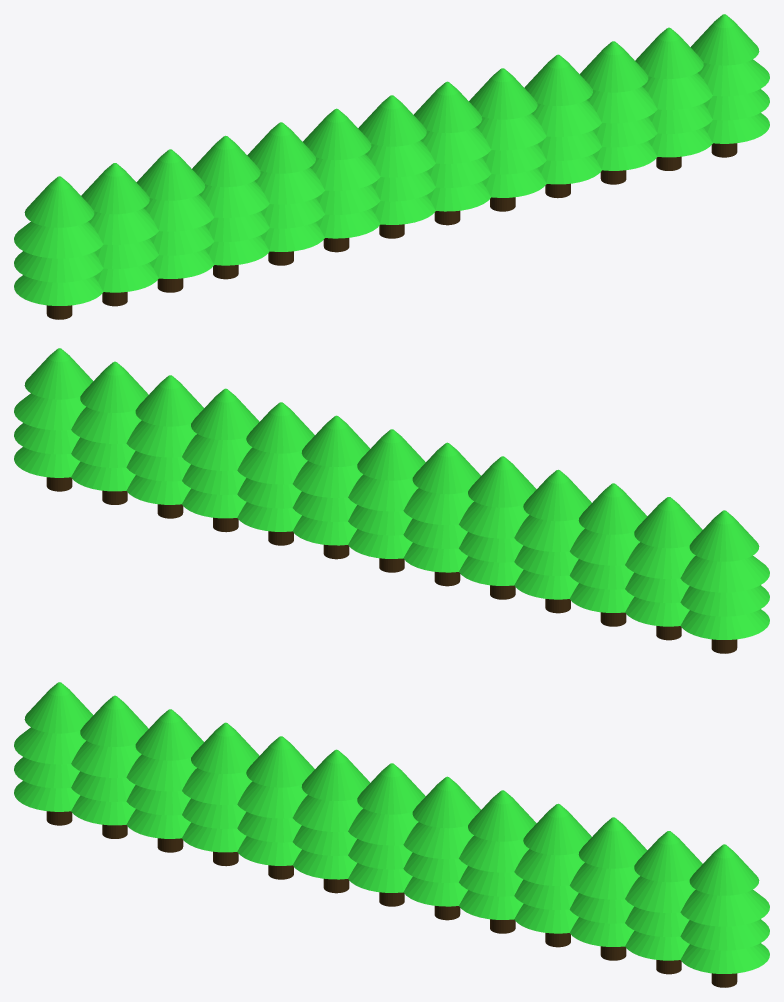
File: treewall.fbx
3 views of the same model, one above another, from view 1: azimuth 30°, elevation 25°; view 2: azimuth 150°, elevation 25°; view 3: azimuth 330°, elevation 25° (orthographic).
Parts seen in each view (by area): view 1: tree; view 2: tree; view 3: tree.
Part boxes in pixels (<box>): tree: <box>14,14,769,319</box>; tree: <box>14,348,769,653</box>; tree: <box>14,682,769,987</box>.
Bounding box in the file's own units: 1880 × 331 × 200.
